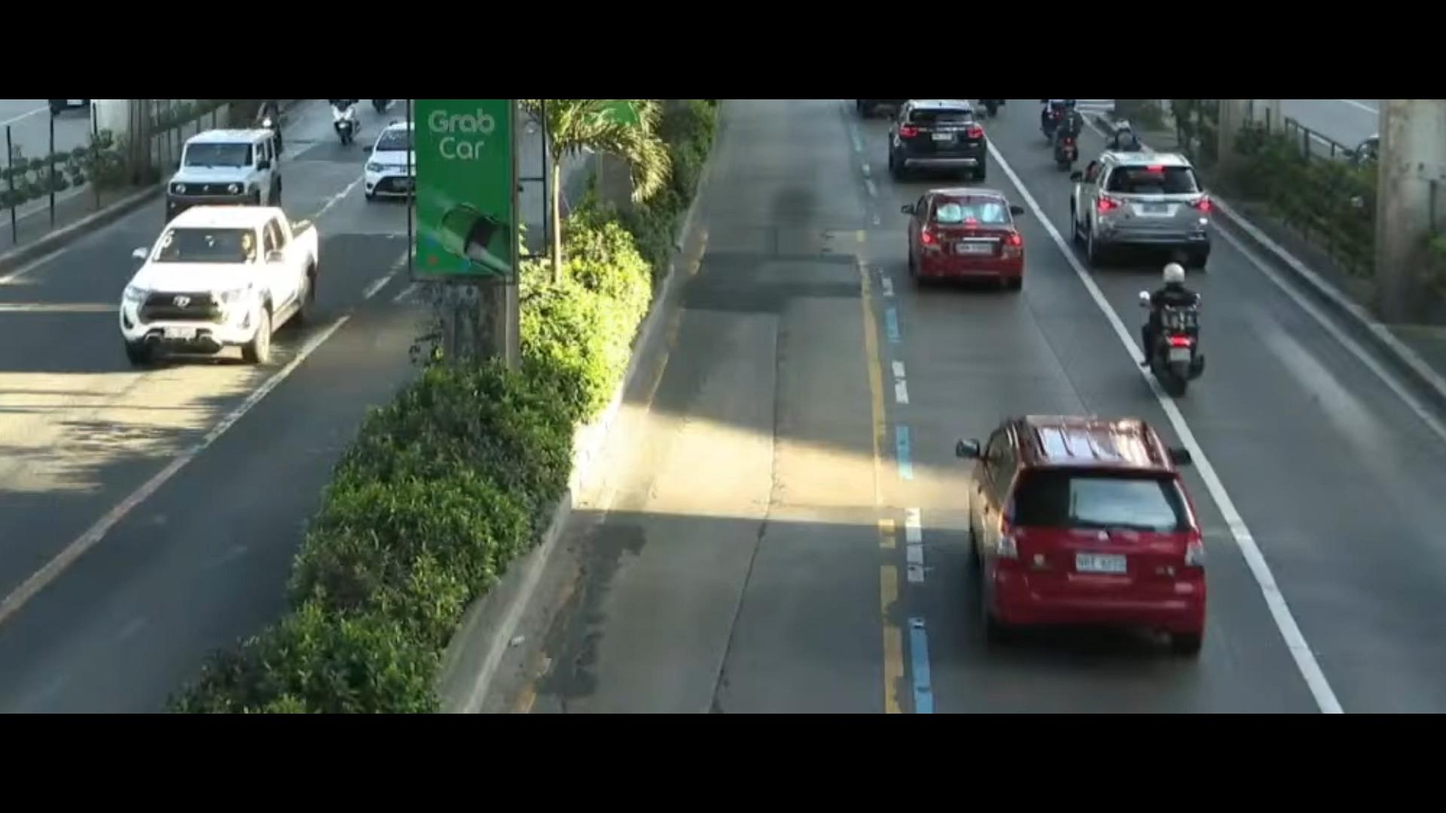Motorcycle: (1143, 258, 1239, 397)
Pickup: (82, 204, 365, 403)
SUV: (960, 397, 1241, 648), (1064, 126, 1241, 281), (162, 111, 294, 227), (833, 101, 997, 185)
Sedan: (902, 166, 1028, 313), (351, 110, 435, 207)
